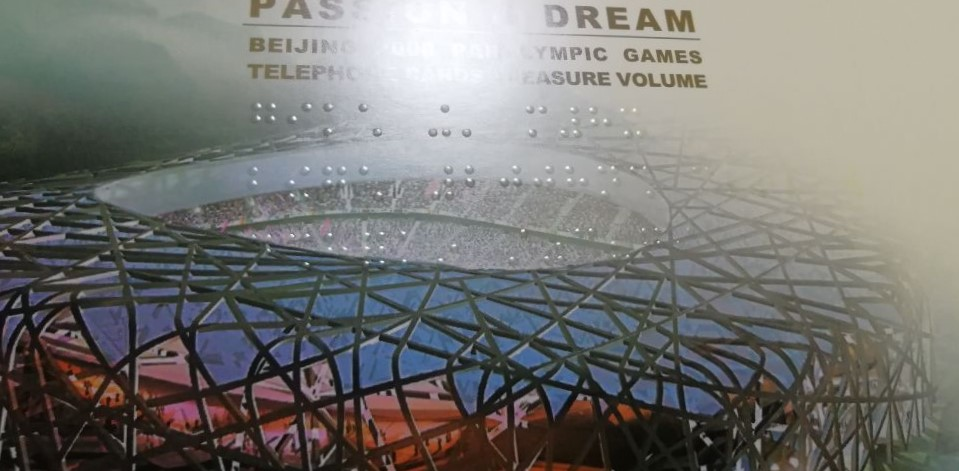Braille: (504, 226, 530, 264), (434, 229, 460, 266), (288, 163, 312, 203), (249, 163, 274, 201), (360, 164, 385, 202), (362, 230, 387, 268), (620, 104, 646, 140), (323, 163, 347, 202), (499, 162, 524, 199), (289, 231, 313, 269), (541, 228, 565, 265), (596, 163, 621, 198), (326, 232, 349, 270), (358, 102, 382, 138), (566, 163, 590, 199), (465, 162, 488, 199), (324, 101, 348, 136), (588, 103, 612, 138), (432, 164, 454, 202), (429, 102, 452, 138), (288, 101, 313, 134), (524, 104, 548, 138), (576, 226, 598, 263), (630, 163, 652, 199), (253, 100, 276, 134), (400, 229, 421, 266), (560, 104, 582, 139), (610, 226, 632, 261), (673, 226, 696, 259), (462, 104, 484, 138), (534, 163, 555, 198), (252, 231, 273, 266), (641, 225, 662, 259)
